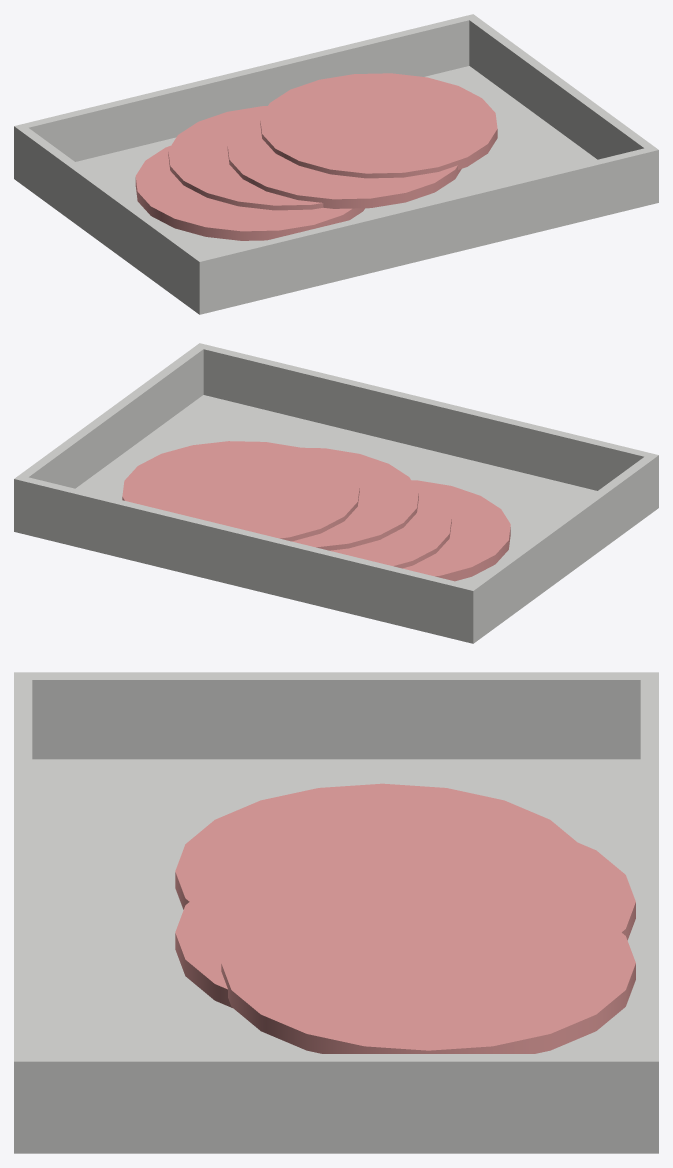
Rendered from Ham.fbx.
3 views of the same model, one above another, from view 1: azimuth 30°, elevation 25°; view 2: azimuth 150°, elevation 25°; view 3: azimuth 270°, elevation 25° (orthographic). The views are drawn at different scales.
Visible parts, largest first — view 1: Ham; view 2: Ham; view 3: Ham.
Boxes of the visible parts, left/top/right/bottom form: Ham: left=14, top=14, right=658, bottom=314; Ham: left=14, top=343, right=658, bottom=643; Ham: left=14, top=672, right=658, bottom=1153.
Size of the model in its own units: 0.2 by 0.022 by 0.14.
